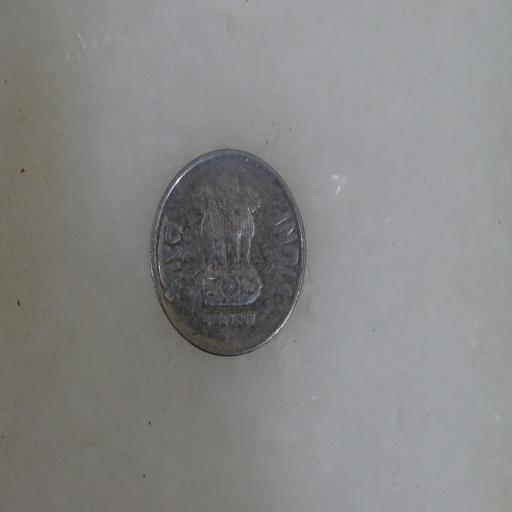rupee1: (148, 149, 307, 356)
